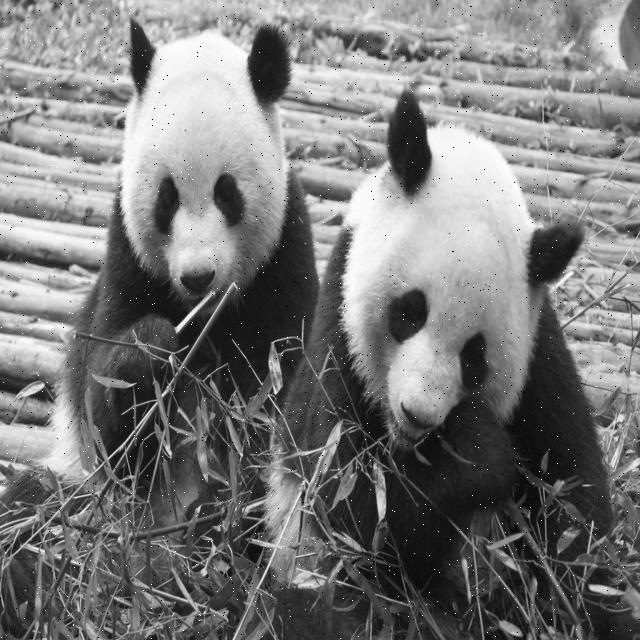panda: (0, 12, 322, 640), (264, 88, 614, 639)
